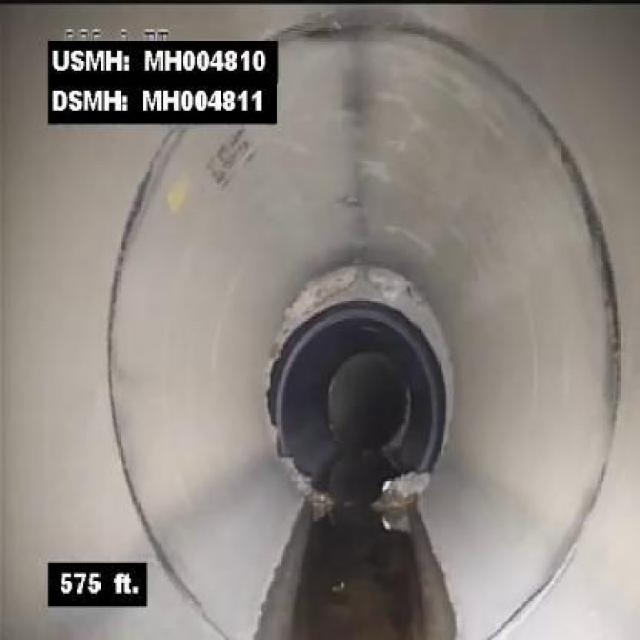Joint offset: (298, 260, 434, 331), (414, 332, 457, 417), (268, 302, 297, 412)
